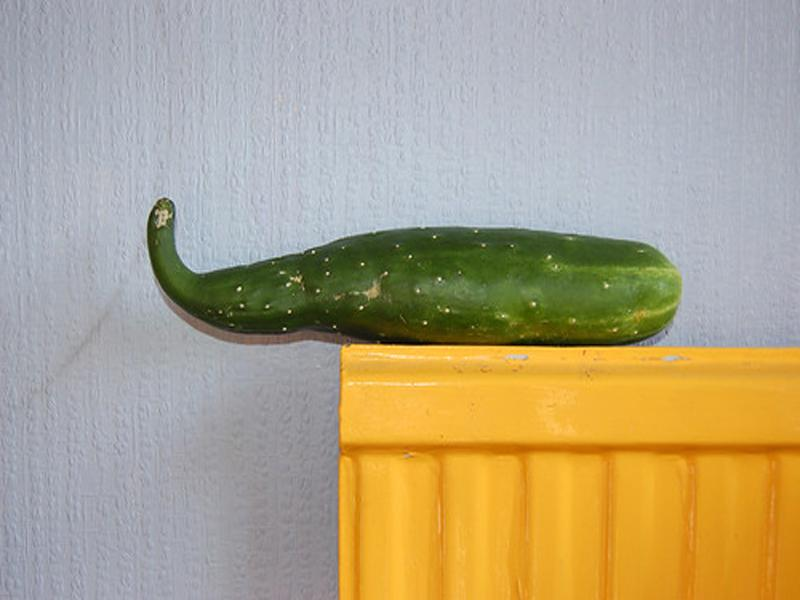Cucumber: (145, 196, 677, 346)
